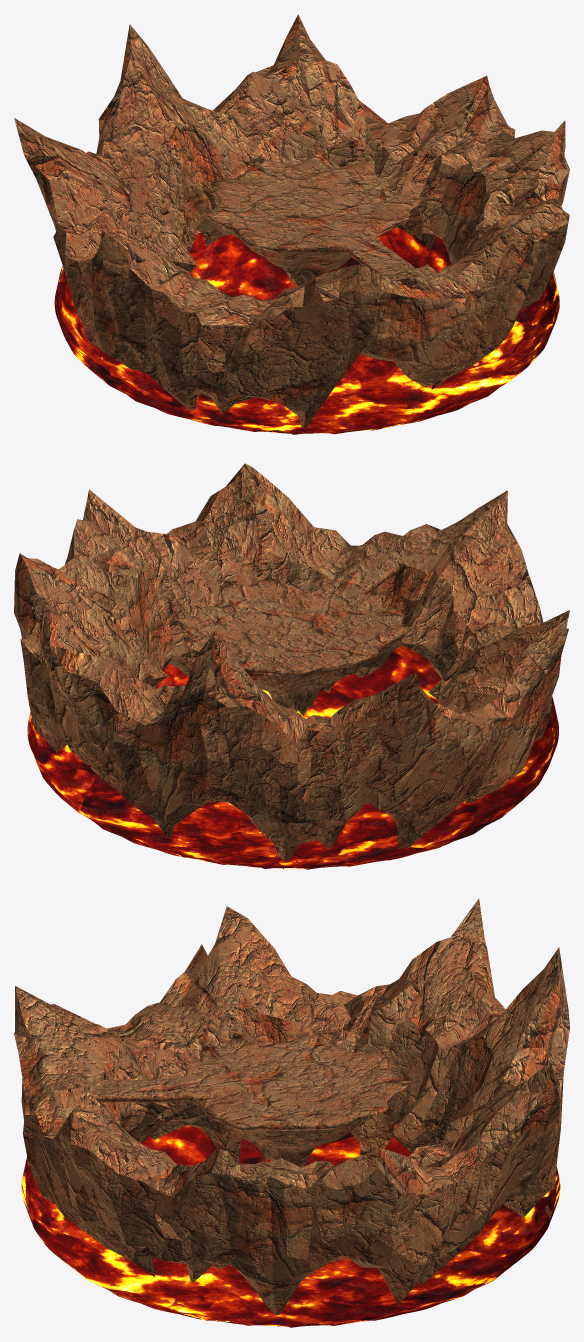
File: wtf.glb
3 renders of one model, top to bottom at view 1: azimuth 30°, elevation 25°; view 2: azimuth 150°, elevation 25°; view 3: azimuth 270°, elevation 25°, orthographic. The views are drawn at different scales.
Visible parts, largest first — view 1: Circle, Circle.001, Plane, Plane.001; view 2: Circle, Circle.001, Plane, Plane.001; view 3: Circle, Circle.001, Plane, Plane.001.
Part boxes in pixels (x1=…): Circle: x1=14, y1=14, x2=569, y2=428; Circle.001: x1=54, y1=228, x2=559, y2=434; Plane: x1=205, y1=152, x2=423, y2=286; Plane.001: x1=208, y1=153, x2=423, y2=273; Circle: x1=14, y1=463, x2=569, y2=869; Circle.001: x1=27, y1=645, x2=558, y2=869; Plane: x1=178, y1=554, x2=412, y2=715; Plane.001: x1=184, y1=555, x2=410, y2=675; Circle: x1=14, y1=899, x2=569, y2=1314; Circle.001: x1=21, y1=1120, x2=560, y2=1327; Plane: x1=91, y1=1030, x2=410, y2=1167; Plane.001: x1=91, y1=1032, x2=408, y2=1130.
Size of the model in its own units: 4.92 by 2.75 by 4.81.
4 materials, 4 textured.
